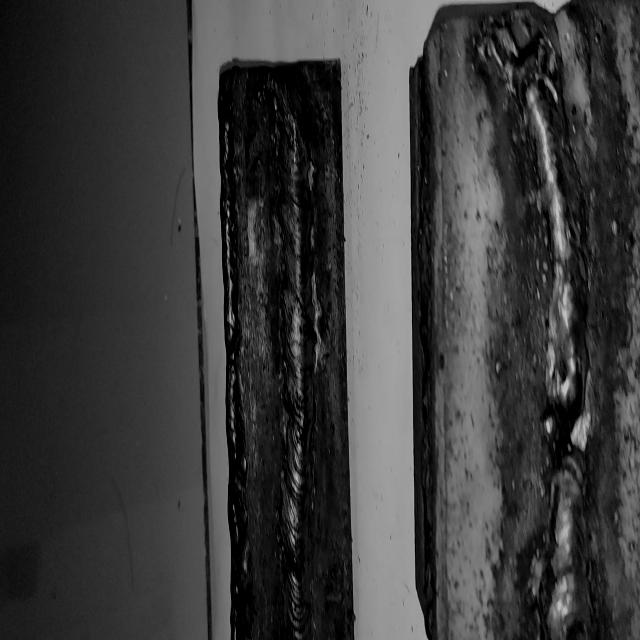Bad Weld: (501, 23, 594, 640)
Defect: (476, 17, 568, 121), (531, 363, 596, 485), (226, 431, 247, 528), (227, 555, 247, 639)
Good Weld: (276, 87, 313, 640)
